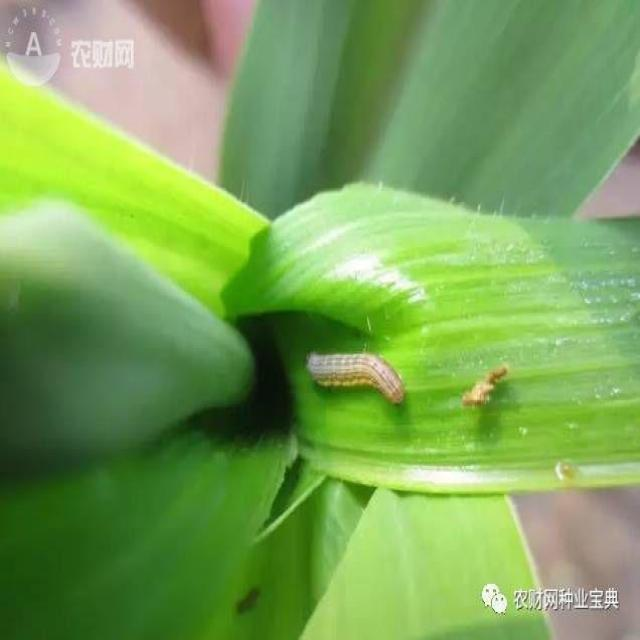pest: (310, 351, 408, 408)
